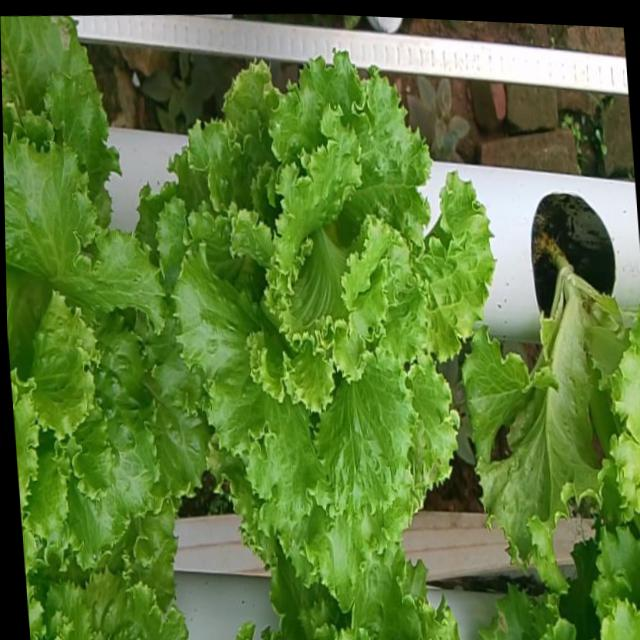Mature: (164, 34, 501, 574), (3, 113, 214, 556)
